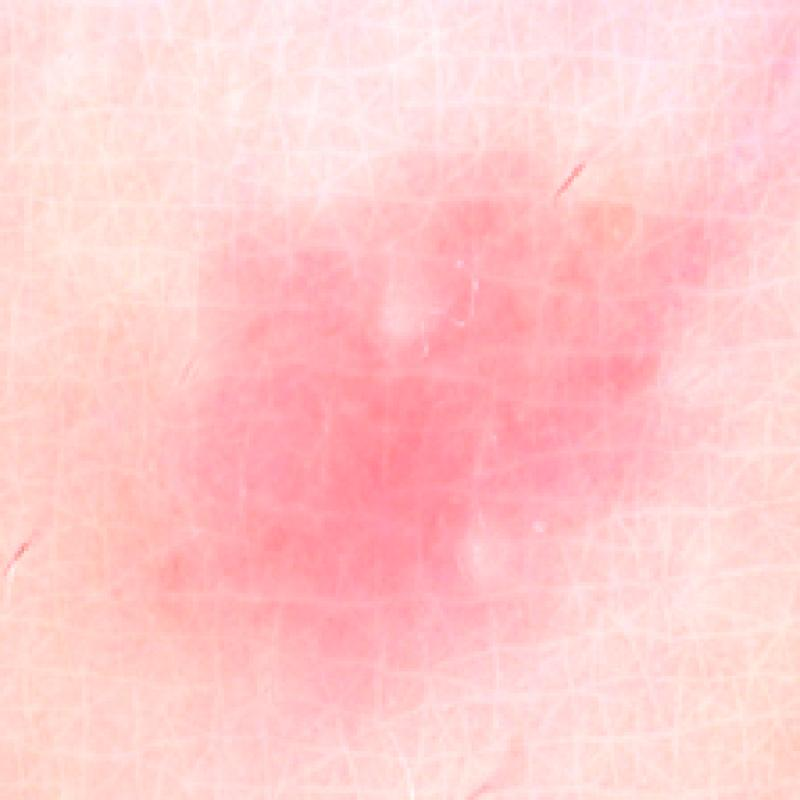benign: (120, 132, 743, 713)
